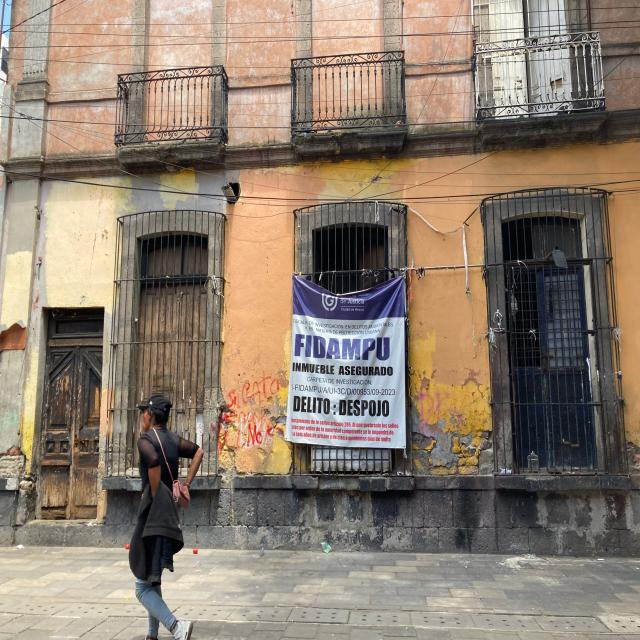stamps: (286, 276, 404, 447)
